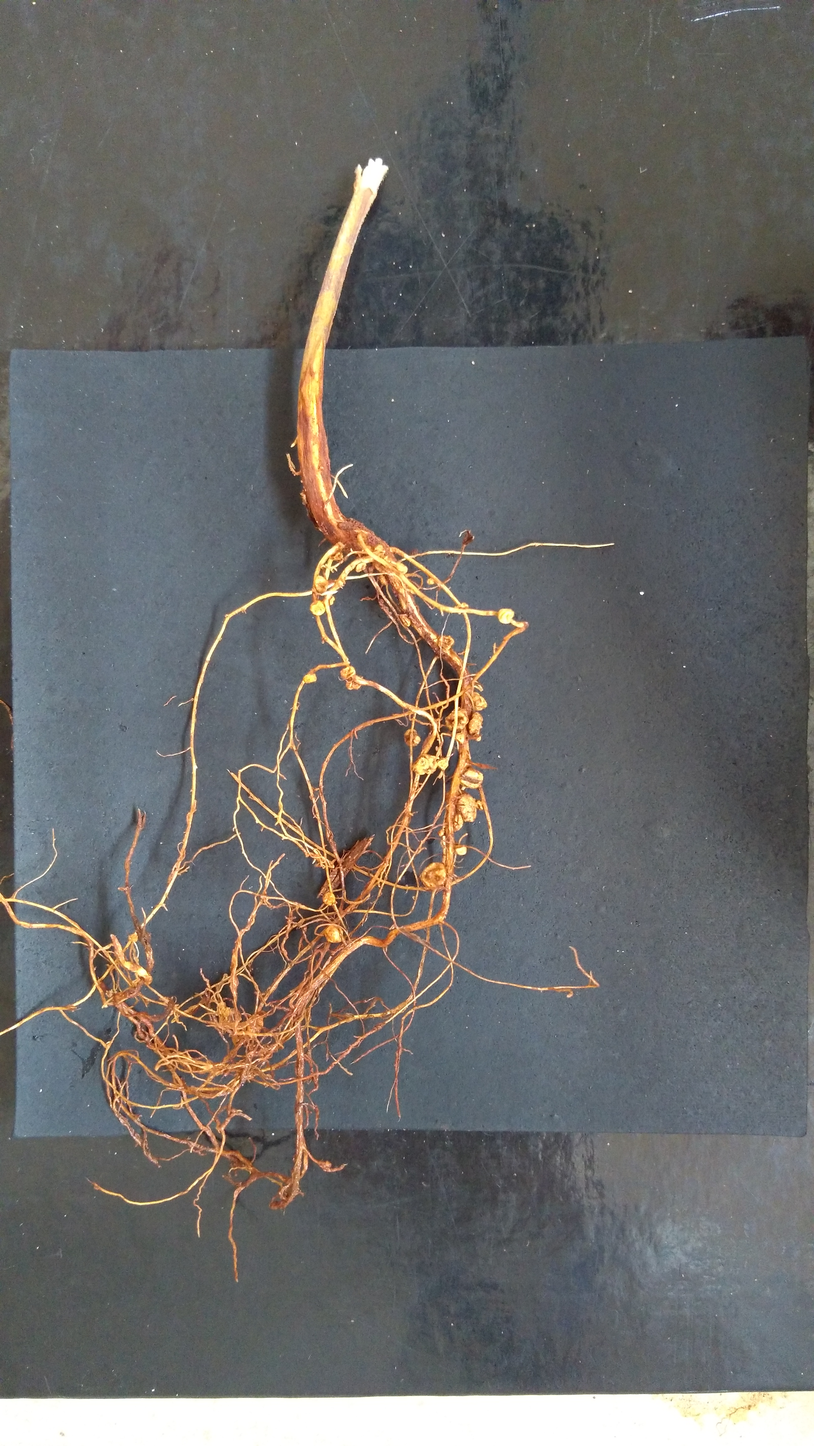nodule: (419, 860, 446, 892), (456, 792, 478, 822), (444, 706, 469, 732), (458, 766, 483, 790), (244, 1013, 264, 1040), (322, 924, 345, 943), (469, 691, 488, 712), (468, 712, 484, 735), (403, 728, 422, 747), (496, 607, 515, 626), (411, 756, 429, 776), (423, 753, 437, 777), (436, 634, 455, 651), (308, 600, 326, 617), (345, 676, 364, 691), (313, 574, 327, 594), (338, 666, 356, 681), (321, 892, 338, 907), (451, 813, 464, 832), (453, 602, 469, 616), (395, 562, 409, 575), (302, 674, 319, 684), (436, 758, 449, 771), (400, 614, 411, 627), (355, 562, 367, 573), (455, 846, 468, 856), (378, 573, 388, 586), (455, 732, 465, 744), (127, 933, 139, 942), (334, 551, 344, 561), (475, 799, 483, 811), (328, 595, 336, 606), (426, 577, 435, 586), (437, 829, 444, 837)
